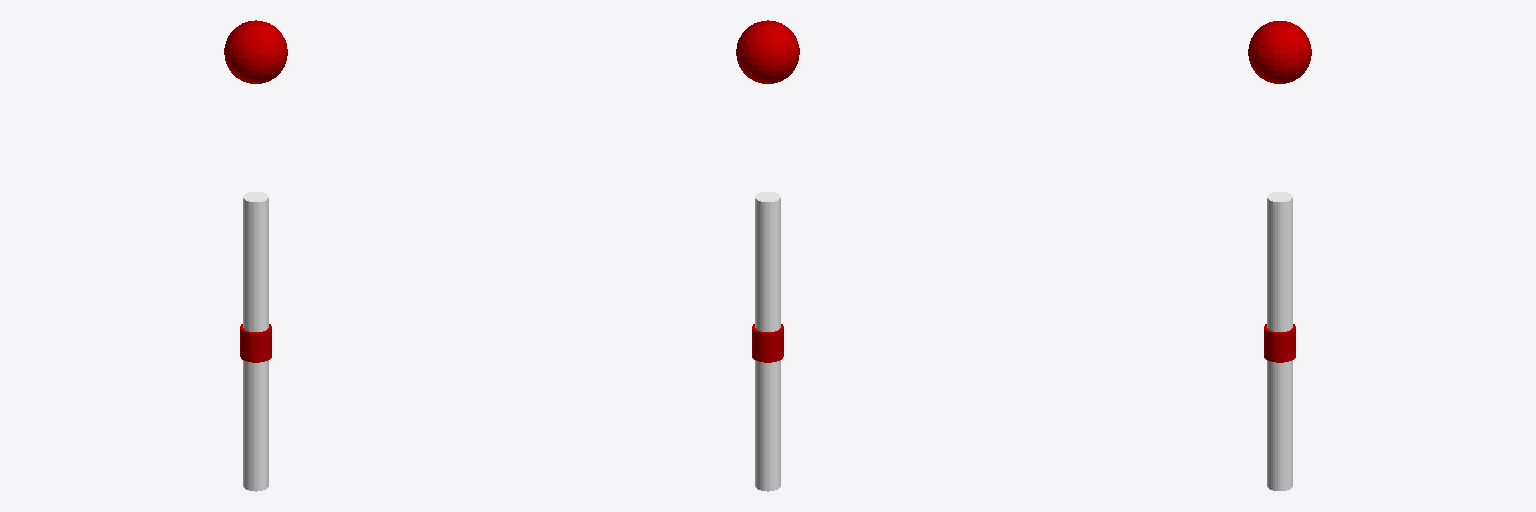
URDF robot description (physics):
<?xml version="1.0"?>
<robot name="physics">

    <link name="world">
    <visual>
      <origin rpy="0 1.57079632679 0" xyz="0 0 0"/>
      <geometry>
        <cylinder radius="0.05" length="0.1"/>
      </geometry>
      <origin xyz="0 0 0"/>
      <material name="red">
        <color rgba=".8 0 0 1"/>
      </material>
    </visual>
    <inertial>
      <mass value="0"/>
      <inertia ixx="1.0" ixy="0.0" ixz="0.0" iyy="1.0" iyz="0.0" izz="1.0"/>
    </inertial>
  </link>

  <link name="pole">
    <visual>
      <origin rpy="0 0 0" xyz="0 0 0.5"/>
      <geometry>
        <cylinder  radius="0.04" length="1"/>	
      </geometry>
      <origin rpy="0 0 0" xyz="0 0 0"/>
      <material name="white">
        <color rgba="1 1 1 1"/>
      </material>
    </visual>
    <inertial>
    <origin xyz="0 0 1"/>
      <mass value="1"/>
      <inertia ixx="0" ixy="0.0" ixz="0.0" iyy="0.0" iyz="0.0" izz="0.0"/>
    </inertial>
     <collision>
      <geometry>
        <box size="0.05 0.05 1.0"/>	
      </geometry>
      <origin rpy="0 0 0" xyz="0 0 0.5"/>
    </collision>
  </link>

  <joint name="pole" type="revolute">
    <axis xyz="1 0 0"/>
    <origin xyz="0.0 0.0 0"/>
    <parent link="world"/>
    <child link="pole"/>
    <limit effort="1000.0" velocity="5"/>
  </joint>

  <link name="pole_tip">
    <visual>
      <origin rpy="0 0 0" xyz="0 0 0"/>
      <geometry>
        <sphere radius="0.1"/>
      </geometry>
      <origin xyz="0 0 0"/>
      <material name="red">
        <color rgba=".8 0 0 1"/>
      </material>
    </visual>
  </link>

  <joint name="tip_joint" type="fixed">
    <origin xyz="0 0 1"/>
    <parent link="pole"/>
    <child link="pole_tip"/>
  </joint>
  
</robot>

--- What the picture shows (computed from the rendered views, not written in the file) ---
3 views of the same robot in one strip: view 1: azimuth 30°, elevation 25°; view 2: azimuth 150°, elevation 25°; view 3: azimuth 270°, elevation 25° (orthographic).
Model physics with 3 links and 2 joints (1 revolute, 1 fixed), rooted at world, posed all joints at 0.
Links seen in each view (by area): view 1: pole, pole_tip, world; view 2: pole, pole_tip, world; view 3: pole, pole_tip, world.
Link boxes in pixels (x1,y1,x2,y2): pole: (243,192,268,491); pole_tip: (224,20,287,83); world: (240,324,271,362); pole: (755,192,780,491); pole_tip: (736,20,799,83); world: (752,324,783,362); pole: (1267,192,1292,490); pole_tip: (1248,21,1311,83); world: (1264,324,1295,362).
Bounding box of the posed robot: 0.2 × 0.2 × 1.6 m (x, y, z).
Geometry: primitives only (box / cylinder / sphere), no mesh files.